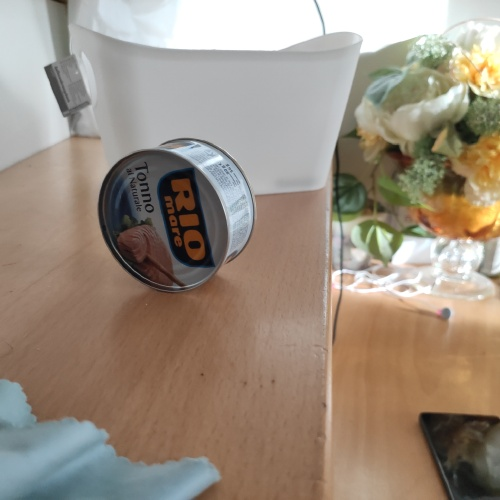tonno: (93, 132, 264, 298)
